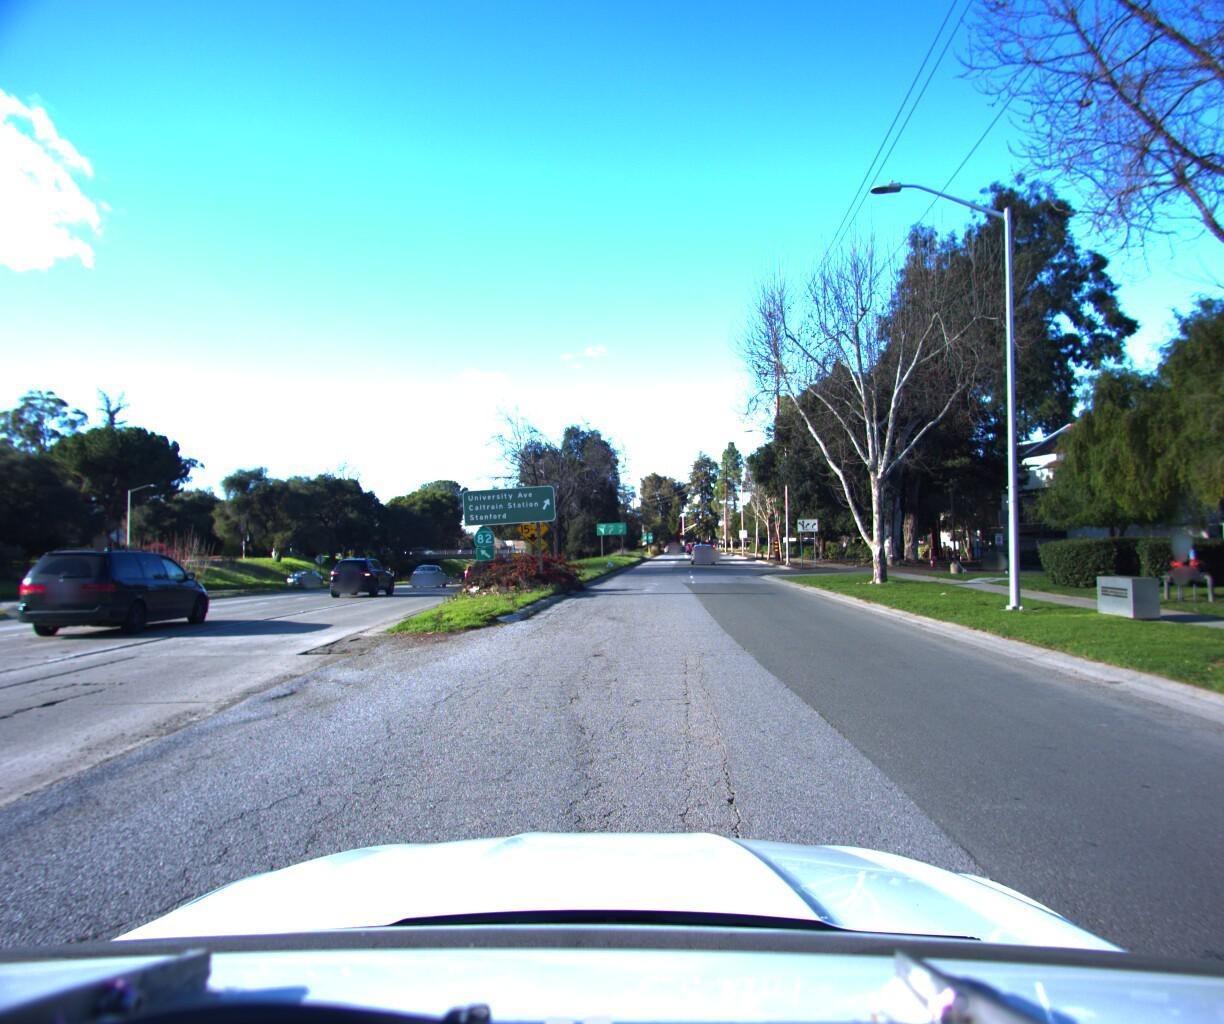car: (16, 544, 225, 641), (329, 555, 400, 598), (411, 560, 448, 586), (688, 539, 715, 561)
